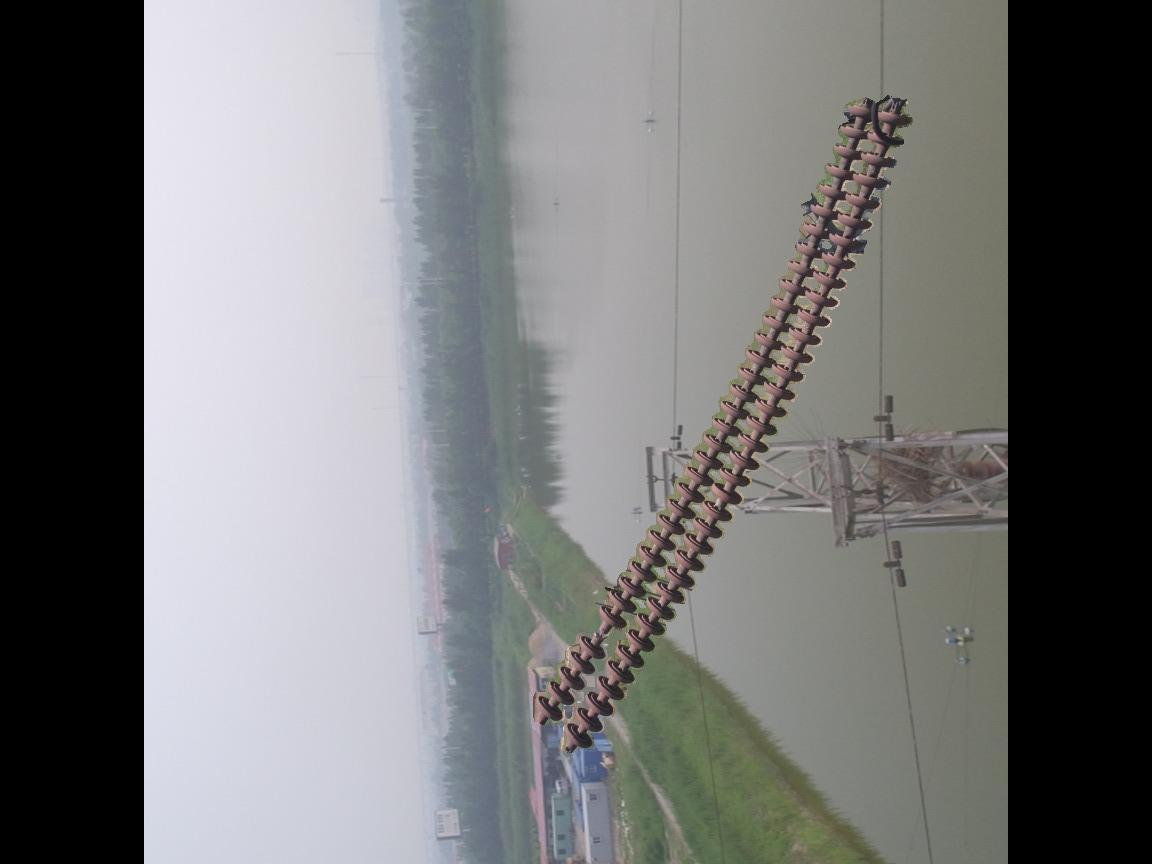insulator: (530, 95, 911, 754)
insulator_stringdrop: (577, 601, 628, 662)
